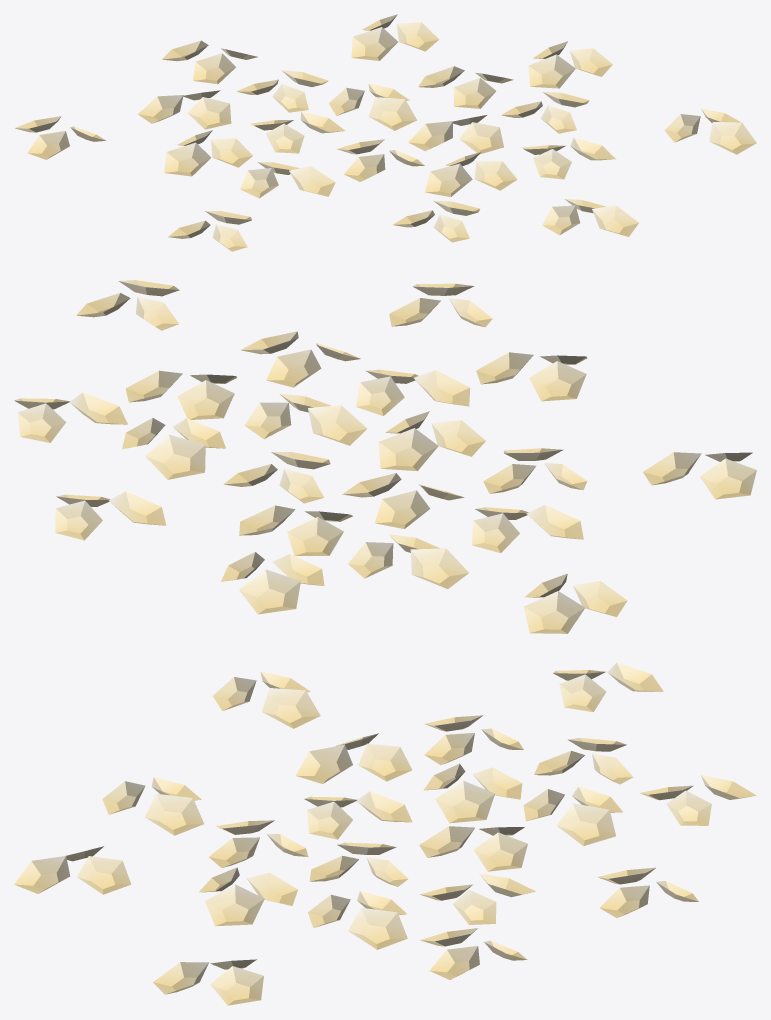
File: Blumengruppe_G.glb
The picture shows the model from 3 angles, top to bottom: view 1: azimuth 30°, elevation 25°; view 2: azimuth 150°, elevation 25°; view 3: azimuth 270°, elevation 25°; orthographic projection. The views are drawn at different scales.
Parts seen in each view (by area): view 1: Cylinder.004; view 2: Cylinder.004; view 3: Cylinder.004.
Part boxes in pixels (x1=…): Cylinder.004: x1=14, y1=14, x2=756, y2=251; Cylinder.004: x1=14, y1=280, x2=756, y2=633; Cylinder.004: x1=14, y1=662, x2=756, y2=1005.
Size of the model in its own units: 5.21 by 0.1634 by 4.88.
Materials: 1 (1 with a texture image).
